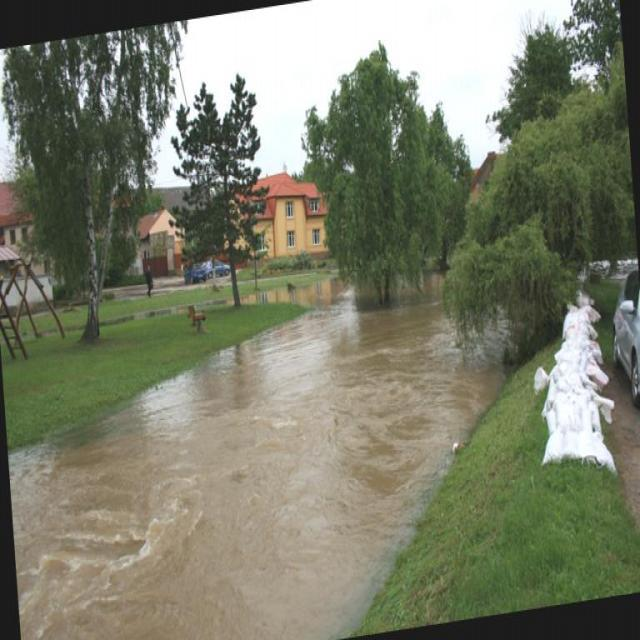flood: (0, 250, 525, 639)
